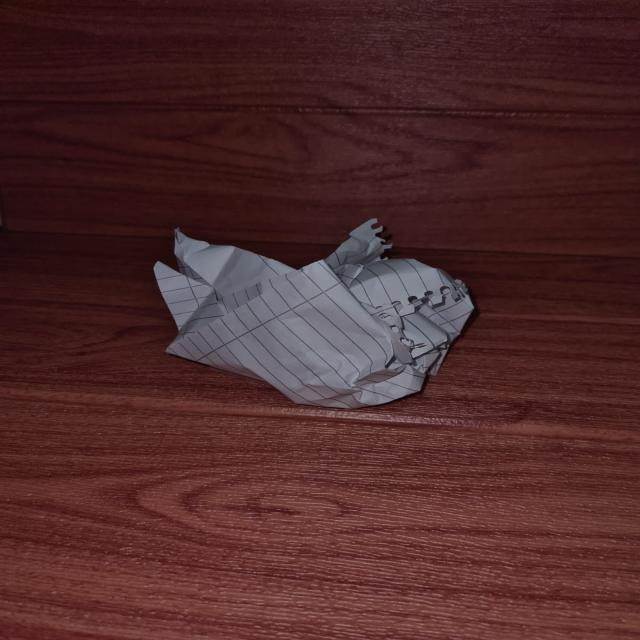Paper: (151, 217, 471, 412)
